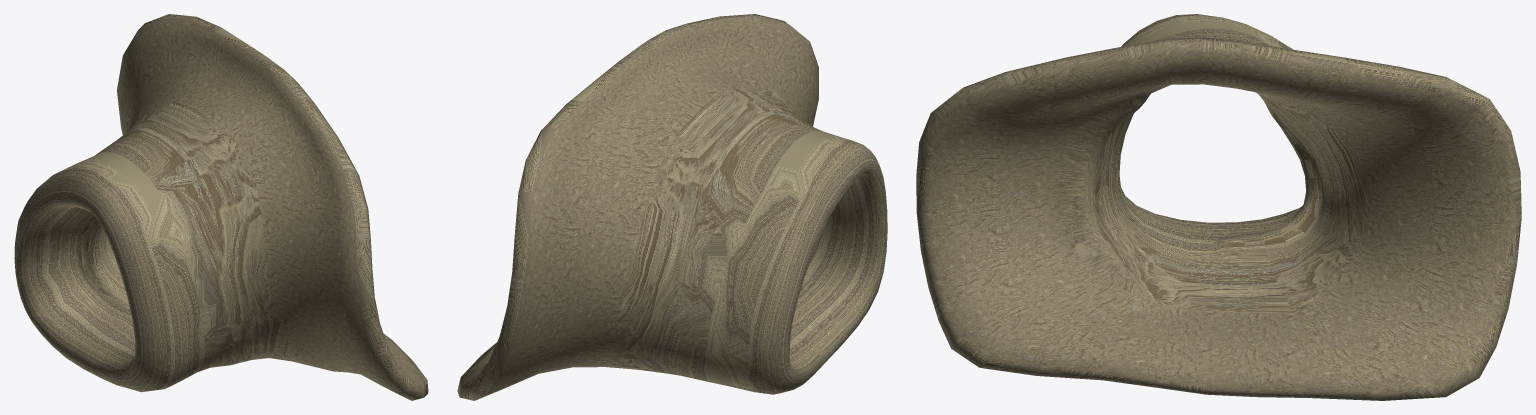
The model's file is saltmine_opening_01.dae.
3 views of the same model, side by side, from view 1: azimuth 30°, elevation 25°; view 2: azimuth 150°, elevation 25°; view 3: azimuth 270°, elevation 25° (orthographic). The views are drawn at different scales.
Parts seen in each view (by area): view 1: opening_01; view 2: opening_01; view 3: opening_01.
Part boxes in pixels (<box>): opening_01: <box>14,14,428,400</box>; opening_01: <box>457,14,887,400</box>; opening_01: <box>916,14,1521,400</box>.
Bounding box in the file's own units: 11.28 × 10.66 × 18.36.
